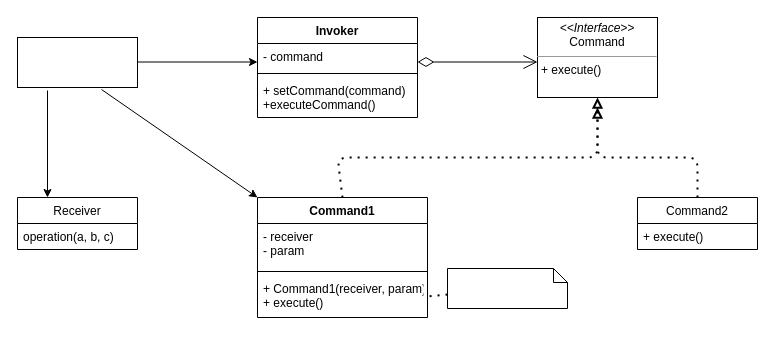
The diagram is 775 pixels wide and 338 high, and some of its shapes have lost their labels. The centre of each missing label's shape, as x and y in pixels:
Client: point 77,62
receiver -> Action();: point 507,288
